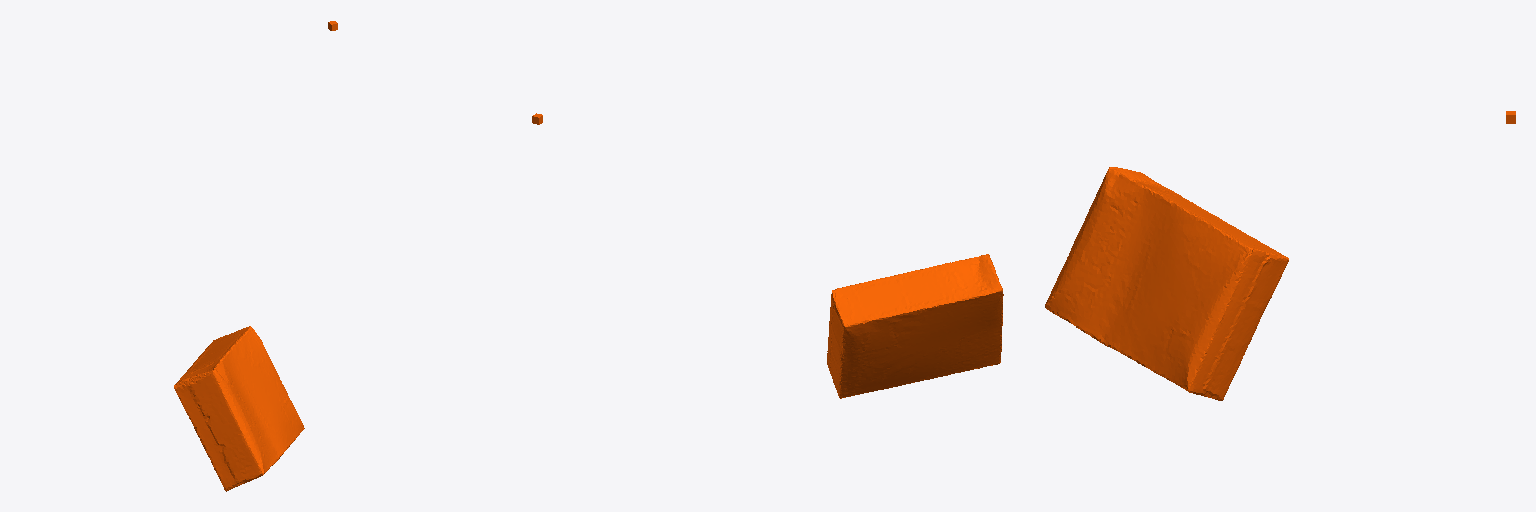
URDF robot description (cb20a1702):
<?xml version="1.0" ?>
<robot name="cb20a1702">
   <material name="obj_color">
      <color rgba="1.0 0.423529411765 0.0392156862745 1.0"/>
   </material>
   <link name="top">
      <inertial>
         <origin rpy="0.005174880632299448 0.008712430512375186 0.01240706308112968" xyz="0.000797639713253984 0.0007706593347910285 -0.0002900146510305311"/>
         <mass value="2.129200282979879"/>
         <inertia ixx="0.00856255892318296" ixy="-0.003142889977132341" ixz="0.001465366691871651" iyy="0.008189610428048902" iyz="-0.0007517071391612276" izz="0.009542204874572455"/>
      </inertial>
      <visual>
         <origin rpy="0 0 0" xyz="0 0 0"/>
         <geometry>
            <mesh filename="top_watertight_tiny.stl" scale="1 1 1"/>
         </geometry>
         <material name="obj_color"/>
      </visual>
      <collision>
         <origin rpy="0 0 0" xyz="0 0 0"/>
         <geometry>
            <mesh filename="top_watertight_tiny.obj" scale="1 1 1"/>
         </geometry>
      </collision>
   </link>
   <link name="bottom">
      <inertial>
         <origin rpy="1.633333333199431e-08 1.633333333199431e-08 1.633333333362855e-08" xyz="0.3464080000000008 0.3464080000000008 0.3464080000000008"/>
         <mass value="0.0009800000000000017"/>
         <inertia ixx="1.633333333253906e-08" ixy="5.447480642029219e-19" ixz="5.447480642029219e-19" iyy="1.633333333253906e-08" iyz="5.447480642029219e-19" izz="1.633333333253906e-08"/>
      </inertial>
      <visual>
         <origin rpy="0 0 0" xyz="0 0 0"/>
         <geometry>
            <mesh filename="bottom_watertight_tiny.stl" scale="1 1 1"/>
         </geometry>
         <material name="obj_color"/>
      </visual>
   </link>
   <link name="world"/>
   <joint name="world_to_base" type="fixed">
      <origin xyz="0 0 0"/>
      <axis xyz="0 0 0"/>
      <parent link="world"/>
      <child link="bottom"/>
   </joint>
   <joint name="rotation" type="revolute">
      <origin xyz="0 0 0"/>
      <axis xyz="0 0 -1"/>
      <parent link="bottom"/>
      <child link="top"/>
      <dynamics damping="1.0" friction="1.0"/>
      <limit effort="0.1" velocity="0.1" lower="0" upper="0.001"/>
   </joint>
</robot>

--- Render facts (derived) ---
3 views of the same robot in one strip: view 1: azimuth 30°, elevation 25°; view 2: azimuth 150°, elevation 25°; view 3: azimuth 270°, elevation 25° (orthographic).
Robot: cb20a1702 — 3 links, 2 joints (1 revolute, 1 fixed); root link world; default pose: all joints at 0.
Links seen in each view (by area): view 1: top; view 2: top; view 3: top.
Boxes of the visible links, x1=… form: top: x1=174, y1=326, x2=304, y2=491; top: x1=827, y1=254, x2=1003, y2=398; top: x1=1045, y1=167, x2=1288, y2=400.
Bounding box of the posed robot: 0.466 × 0.4746 × 0.4469 m (x, y, z).
2 mesh visuals loaded from 2 distinct referenced files (2 binary STL).
